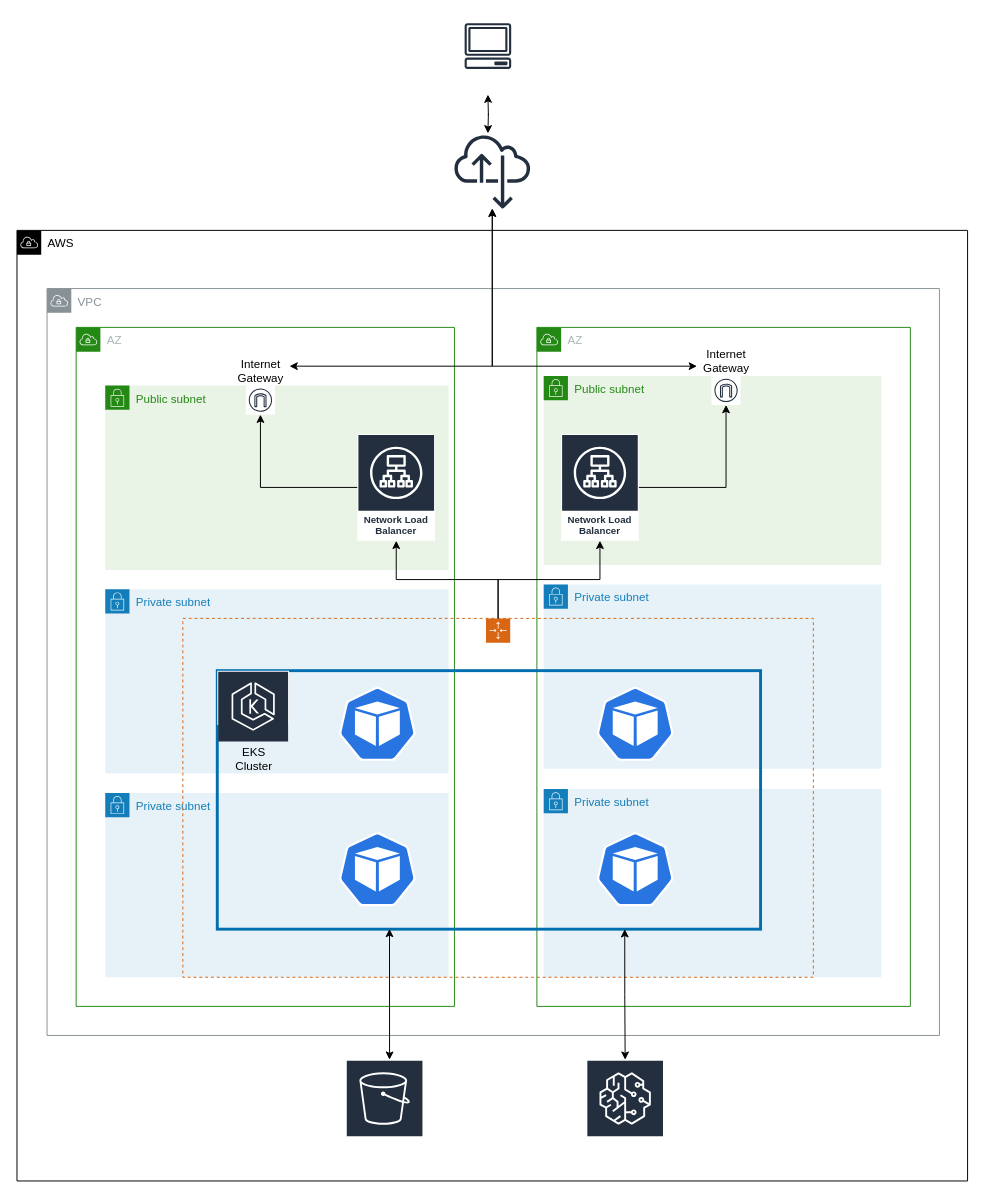
Some shapes in this 985 by 1198 pixel diagram are drawn without their labels. The shapes that lost their labels are listed below. From the top down, each one's box as (x1, y1, x2, y2) in pixels, then its label:
(458, 16, 517, 75): Client
(454, 133, 530, 209): Internet
(182, 617, 813, 977): Target Group
(345, 1059, 423, 1157): Amazon S3
(585, 1059, 664, 1166): Amazon SageMaker
